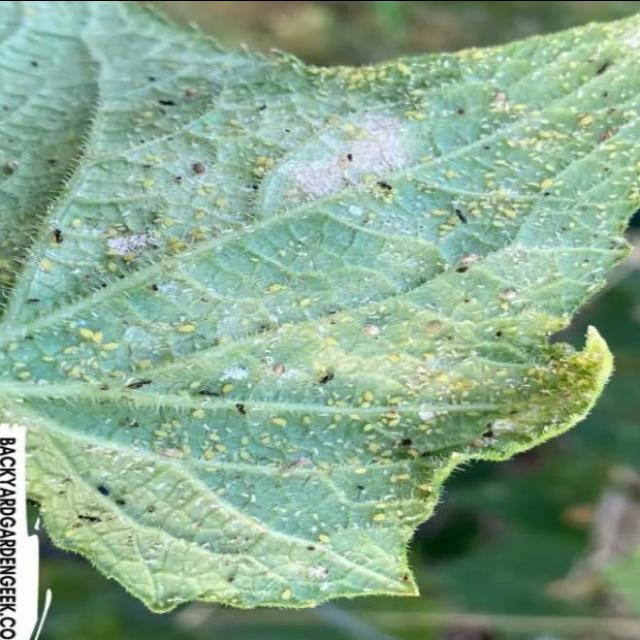Aphids: (425, 77, 609, 260), (268, 322, 460, 468), (450, 84, 598, 243), (61, 155, 248, 269), (156, 382, 288, 490), (454, 352, 594, 443), (298, 136, 397, 260), (7, 321, 136, 416), (294, 59, 432, 111), (216, 271, 302, 345), (54, 479, 148, 540), (67, 323, 160, 384), (464, 274, 550, 326), (598, 111, 640, 210), (289, 512, 346, 584), (360, 482, 426, 542), (197, 576, 303, 610), (0, 250, 31, 302), (168, 318, 210, 347)
